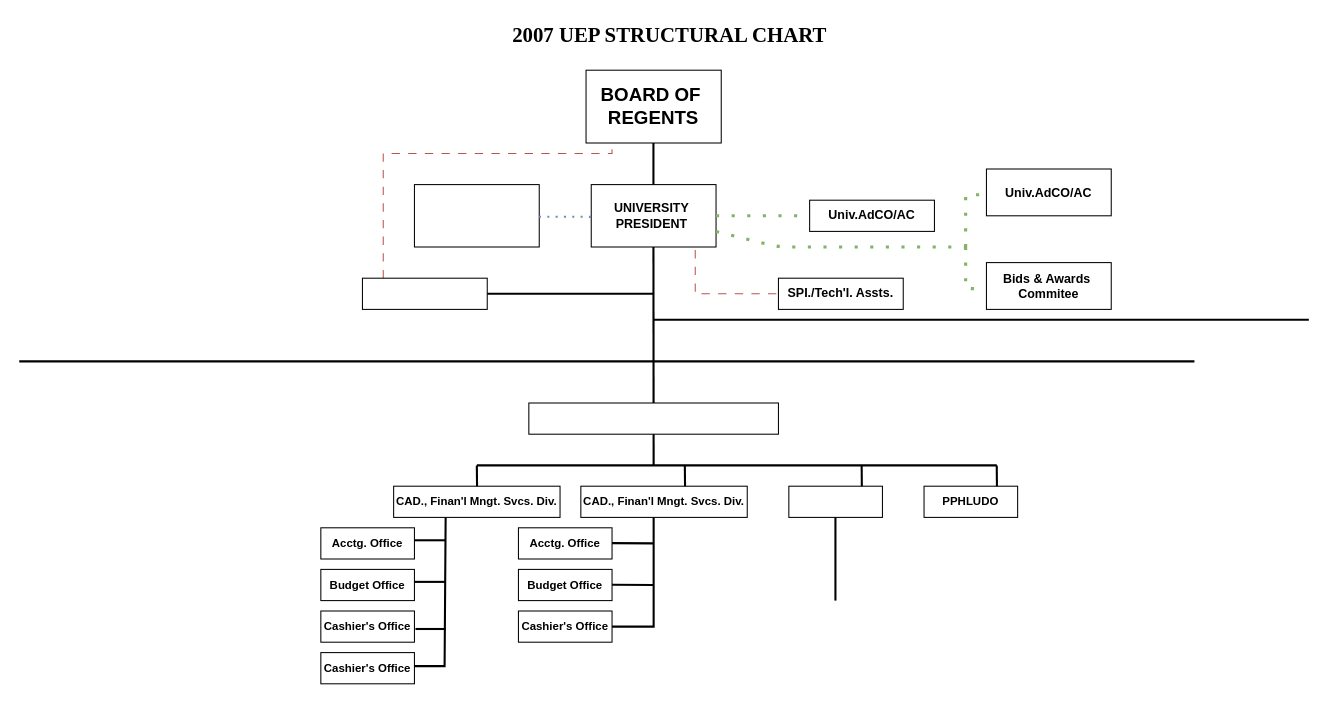
Some shapes in this 1328 by 702 pixel diagram are drawn without their labels. The centre of each missing label's shape, as x and y in pixels:
Board & Univ. Secretary: the point at 424,293
COA: the point at 476,215
Dir., ASBA: the point at 835,501
VP for Administration & Finance: the point at 653,418
